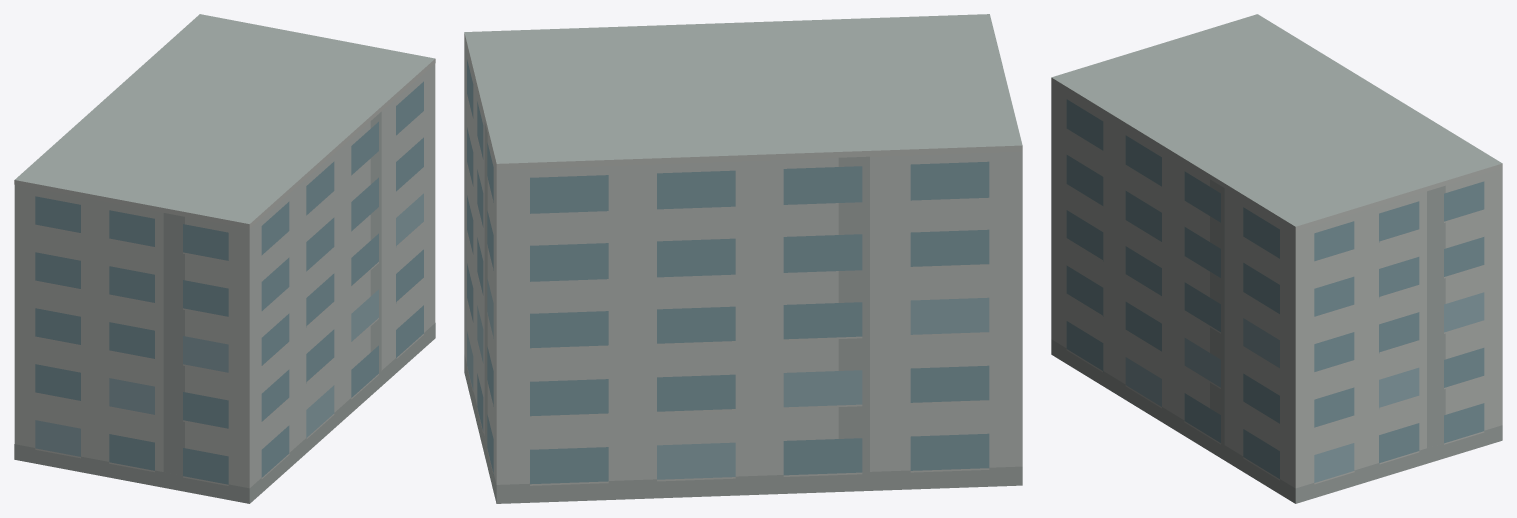
Rendered from survey-upis-32815652.glb.
3 views of the same model, side by side, from view 1: azimuth 30°, elevation 25°; view 2: azimuth 150°, elevation 25°; view 3: azimuth 270°, elevation 25° (orthographic). The views are drawn at different scales.
Parts seen in each view (by area): view 1: survey-upis-32815652.tmp; view 2: survey-upis-32815652.tmp; view 3: survey-upis-32815652.tmp.
Boxes of the visible parts, x1=… form: survey-upis-32815652.tmp: x1=14, y1=14, x2=435, y2=503; survey-upis-32815652.tmp: x1=464, y1=14, x2=1022, y2=503; survey-upis-32815652.tmp: x1=1051, y1=14, x2=1502, y2=503.
Bounding box in the file's own units: 23.39 × 14.2 × 20.97.
